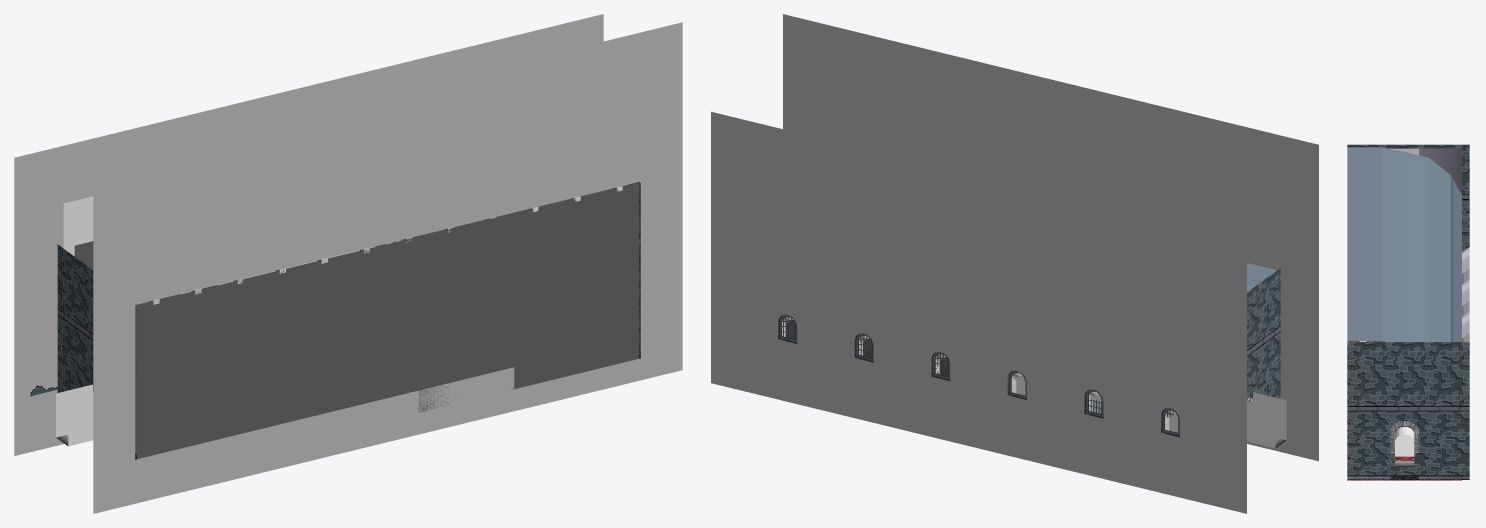
The model's file is gon_09.dae.
3 views of the same model, side by side, from view 1: azimuth 30°, elevation 25°; view 2: azimuth 150°, elevation 25°; view 3: azimuth 270°, elevation 25° (orthographic). The views are drawn at different scales.
Parts seen in each view (by area): view 1: kuro8, a_kabemae, polySurface909_q00105, polySurface473_q00099_part0, polySurface409_q00007, a_kabeushi; view 2: polySurface909_q00105, kuro8, polySurface473_q00099_part0, polySurface409_q00007, polySurface909_q00103_part1, a_kabeushi; view 3: polySurface7_q00143, polySurface474_q00100_part0, polySurface474_q00100_part1, a_kabeyoko, polySurface473_q00099_part0, polySurface787_q00094, polySurface890_q00109, pCube151_q00090, pCube151_q00105_part1, polySurface890_q00110, polySurface494_q00129_part0.
Boxes of the visible parts, x1,y1,x2,y2 form: kuro8: (93,22,682,513); a_kabemae: (136,182,639,459); polySurface909_q00105: (14,14,603,455); polySurface473_q00099_part0: (57,244,93,392); polySurface409_q00007: (56,384,93,446); a_kabeushi: (63,196,395,256); polySurface909_q00105: (711,111,1246,513); kuro8: (783,14,1318,461); polySurface473_q00099_part0: (1247,268,1280,399); polySurface409_q00007: (1247,392,1286,448); polySurface909_q00103_part1: (779,314,1179,436); a_kabeushi: (786,320,1178,432); polySurface7_q00143: (1347,147,1461,341); polySurface474_q00100_part0: (1347,342,1469,475); polySurface474_q00100_part1: (1347,406,1469,479); a_kabeyoko: (1347,148,1461,479); polySurface473_q00099_part0: (1347,144,1469,251); polySurface787_q00094: (1395,435,1414,456); polySurface890_q00109: (1462,247,1469,305); pCube151_q00090: (1451,177,1452,341); pCube151_q00105_part1: (1462,268,1469,341); polySurface890_q00110: (1462,312,1469,338); polySurface494_q00129_part0: (1395,426,1414,439).
Size of what is drawn, in the model's own units: 140 by 79 by 32.5.
